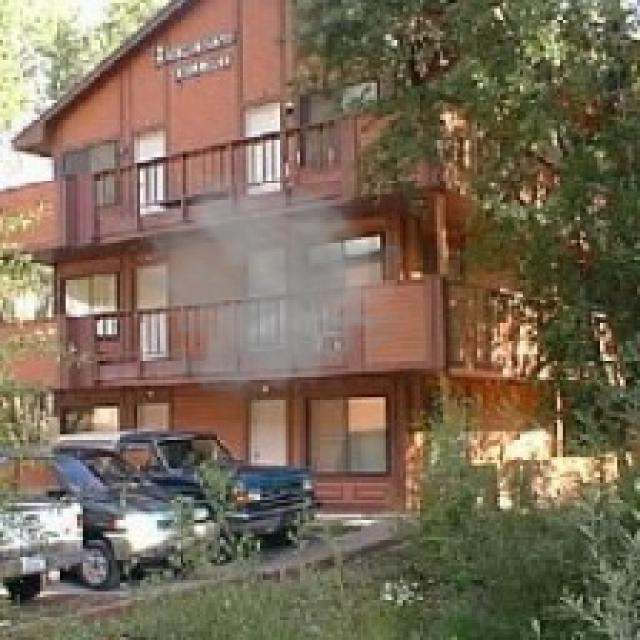Smoke: (132, 175, 412, 412)
